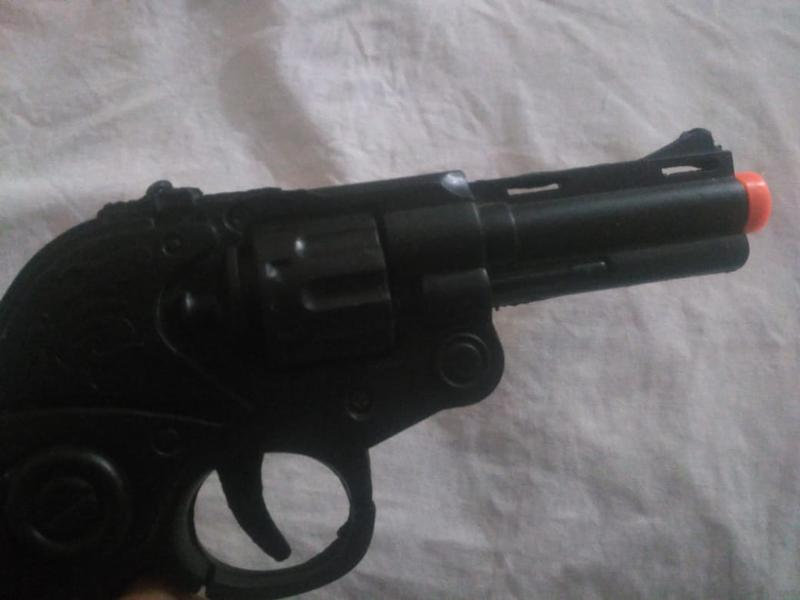gun: (2, 81, 796, 600)
